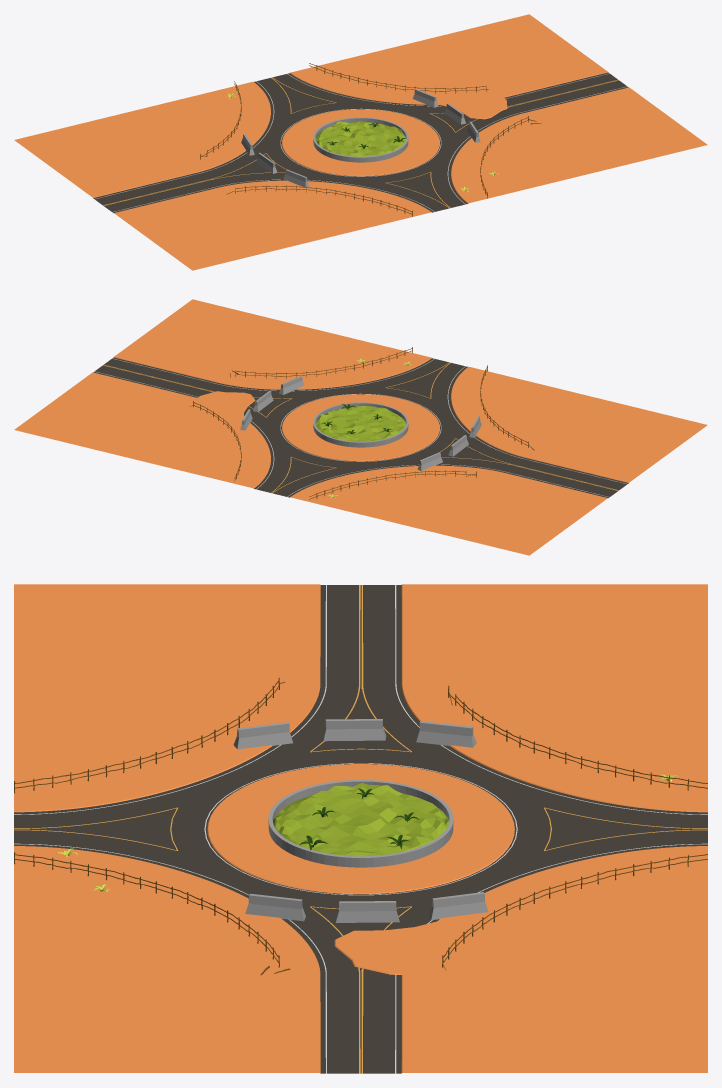
File: DesertRoadStraightCircle.fbx
3 views of the same model, one above another, from view 1: azimuth 30°, elevation 25°; view 2: azimuth 150°, elevation 25°; view 3: azimuth 270°, elevation 25° (orthographic). The views are drawn at different scales.
Parts seen in each view (by area): view 1: DRSCRoad, DRSCGrass, DRSCWoodFence, DRSCCenterFence, DRSCConcreteFenceLeft, DRSCConcreteFenceRight; view 2: DRSCRoad, DRSCGrass, DRSCWoodFence, DRSCCenterFence, DRSCConcreteFenceLeft, DRSCConcreteFenceRight; view 3: DRSCRoad, DRSCGrass, DRSCWoodFence, DRSCCenterFence, DRSCConcreteFenceRight, DRSCConcreteFenceLeft.
Part boxes in pixels (x1,y1,x2,y2): DRSCRoad: [14, 14, 707, 270]; DRSCGrass: [315, 121, 406, 156]; DRSCWoodFence: [200, 63, 541, 216]; DRSCCenterFence: [313, 117, 408, 162]; DRSCConcreteFenceLeft: [412, 89, 480, 142]; DRSCConcreteFenceRight: [241, 134, 308, 187]; DRSCRoad: [14, 299, 707, 555]; DRSCGrass: [315, 406, 406, 441]; DRSCWoodFence: [189, 347, 534, 499]; DRSCCenterFence: [313, 402, 408, 447]; DRSCConcreteFenceLeft: [240, 376, 304, 430]; DRSCConcreteFenceRight: [417, 416, 481, 470]; DRSCRoad: [14, 584, 707, 1073]; DRSCGrass: [273, 783, 449, 856]; DRSCWoodFence: [14, 677, 707, 975]; DRSCCenterFence: [268, 779, 453, 867]; DRSCConcreteFenceRight: [233, 719, 476, 749]; DRSCConcreteFenceLeft: [245, 892, 488, 922].
Size of what is drawn, in the model's own units: 20000 by 370 by 12002.
